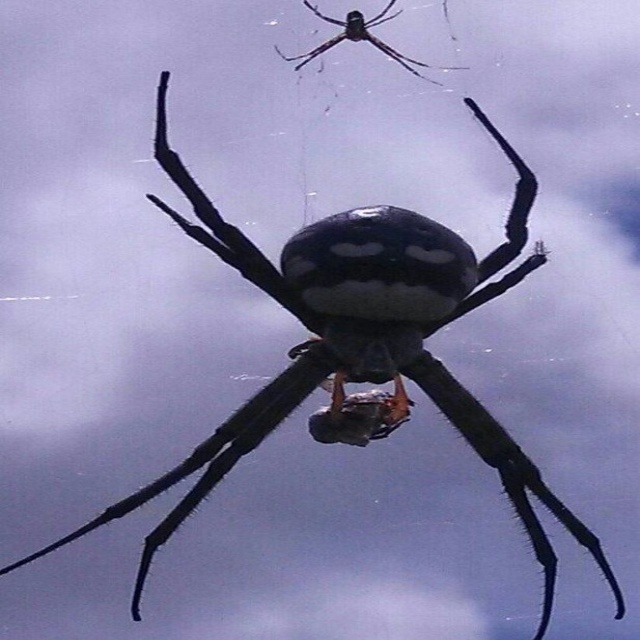Spider: (0, 1, 626, 640)
